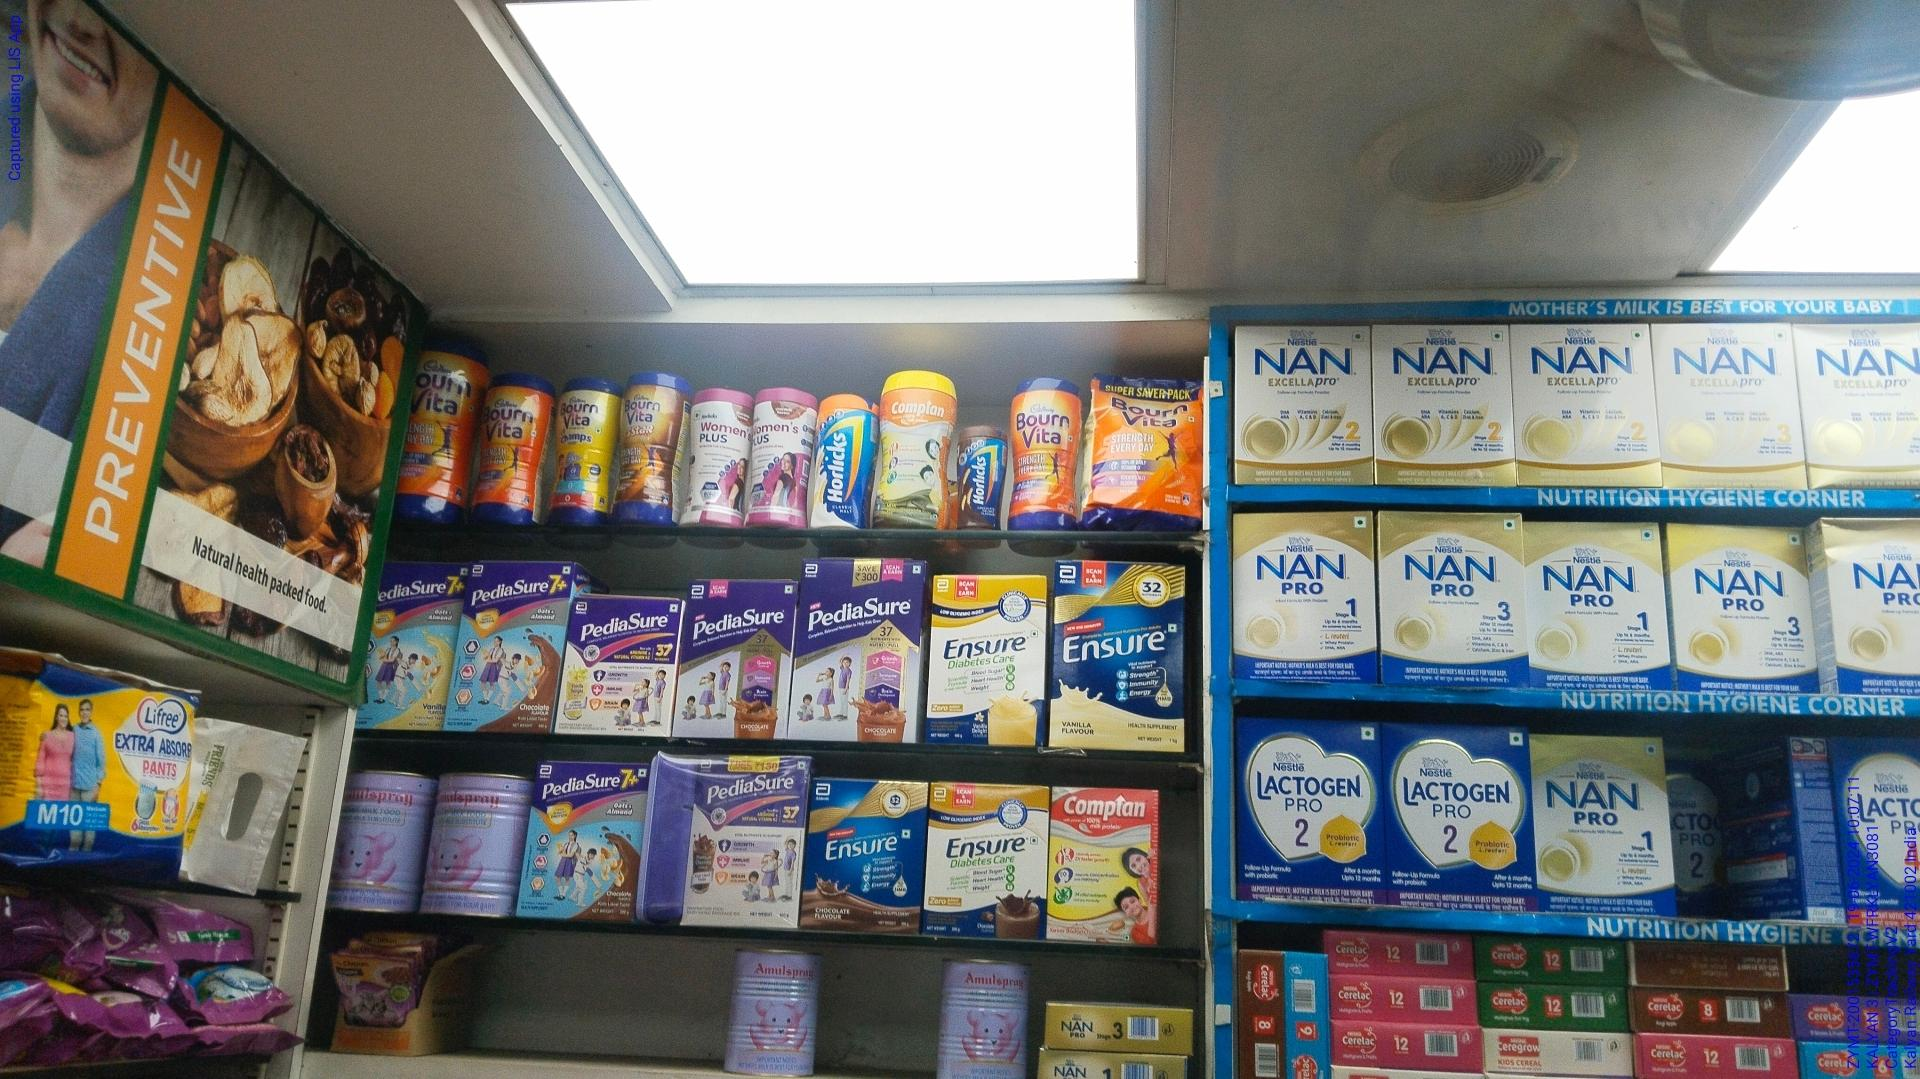BOURN_VITA_500_G_JAR: (1011, 377, 1076, 525)
BOURN_VITA_CHAMPS_500_G_JAR: (555, 376, 609, 525)
COMPLAN_CHOCOLATE_500_GMS_JAR: (880, 371, 952, 525)
